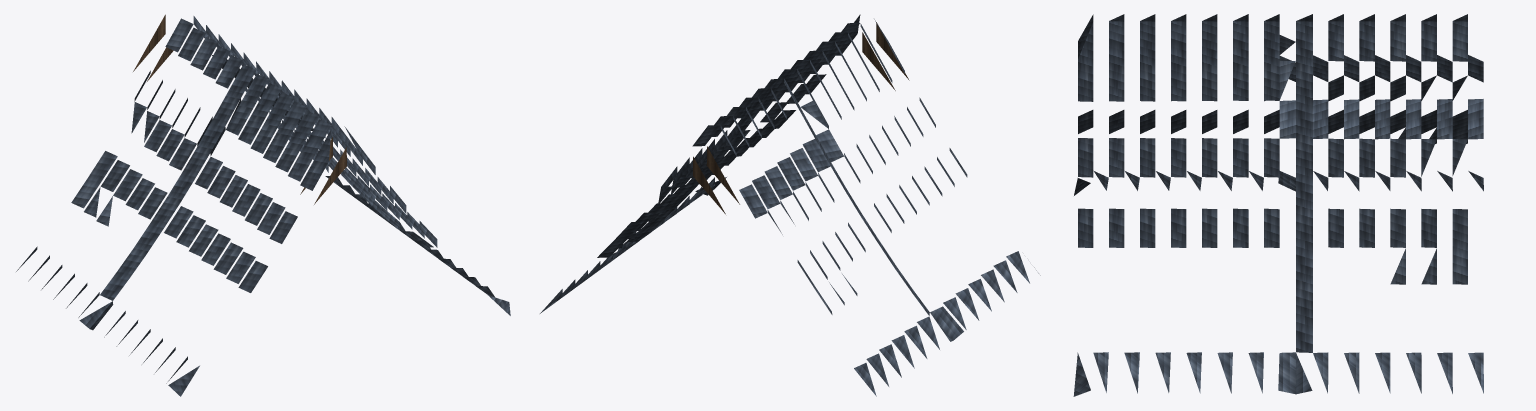
File: Roof_Slate_6x6_LOD2.gltf
3 views of the same model, side by side, from view 1: azimuth 30°, elevation 25°; view 2: azimuth 150°, elevation 25°; view 3: azimuth 270°, elevation 25° (orthographic). The views are drawn at different scales.
Visible parts, largest first — view 1: Roof_Slate_6x6_LOD2; view 2: Roof_Slate_6x6_LOD2; view 3: Roof_Slate_6x6_LOD2.
Boxes of the visible parts, x1,y1,x2,y2 form: Roof_Slate_6x6_LOD2: (16, 14, 510, 396); Roof_Slate_6x6_LOD2: (540, 14, 1040, 396); Roof_Slate_6x6_LOD2: (1073, 14, 1483, 396).
Size of the model in its own units: 8.25 by 5.17 by 7.59.
2 materials, 2 textured.
